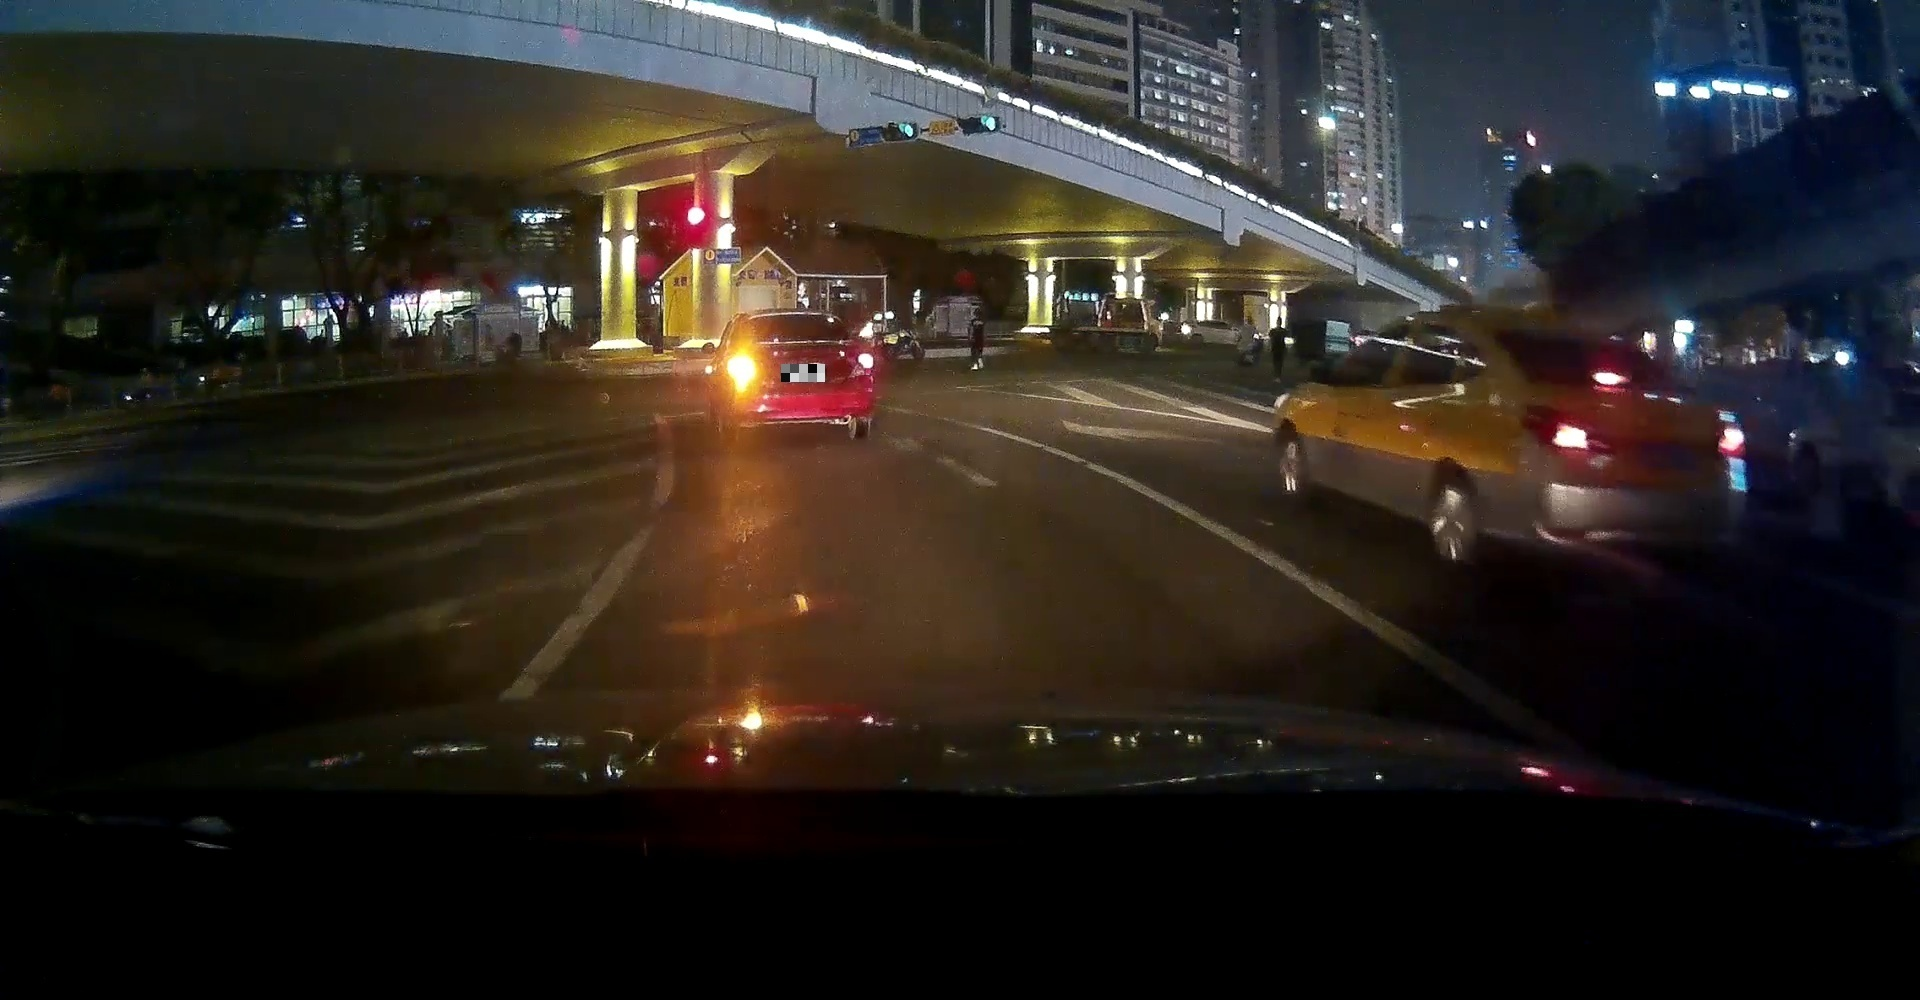L_light: (1523, 404, 1617, 461), (728, 360, 756, 373)
R_light: (1710, 407, 1745, 454), (857, 354, 872, 368)
T_light: (1592, 373, 1628, 386), (783, 313, 803, 320)
night-brake: (1481, 307, 1745, 563)
night-left: (725, 308, 874, 440)
plate_1: (781, 364, 825, 382)
